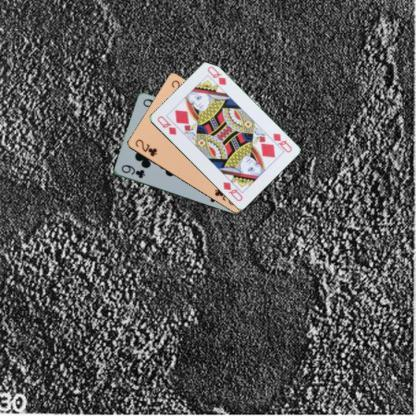2c: (132, 136, 158, 158)
9c: (118, 162, 146, 180)
Qd: (265, 130, 292, 154), (154, 113, 178, 136)
